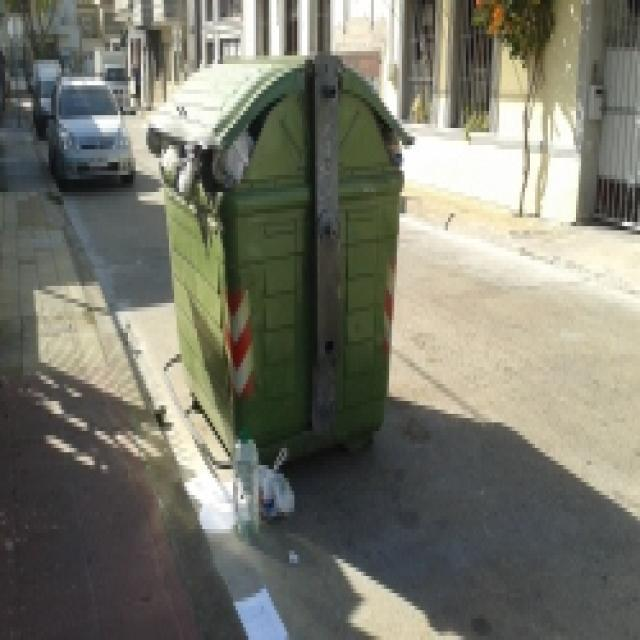garbage: (222, 426, 302, 524), (146, 132, 254, 188)
